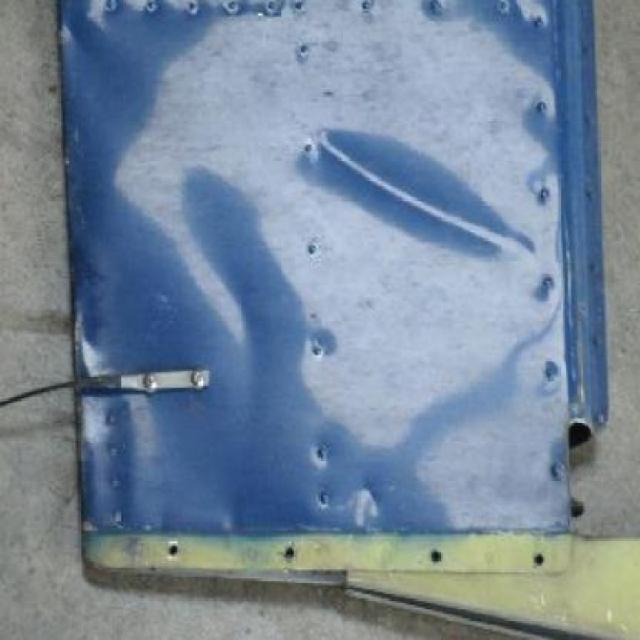dent: (313, 130, 524, 245)
